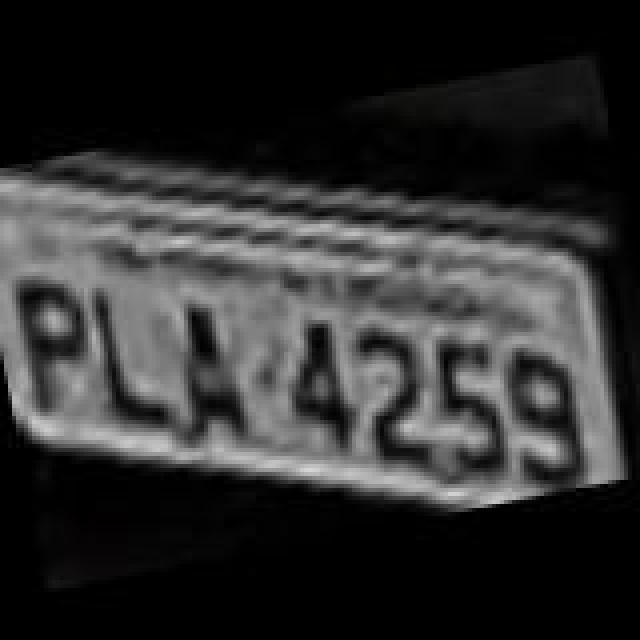2: (344, 312, 440, 472)
4: (268, 310, 372, 474)
5: (420, 330, 516, 486)
9: (494, 332, 594, 492)
A: (156, 288, 260, 456)
L: (88, 268, 184, 436)
P: (8, 268, 104, 420)
